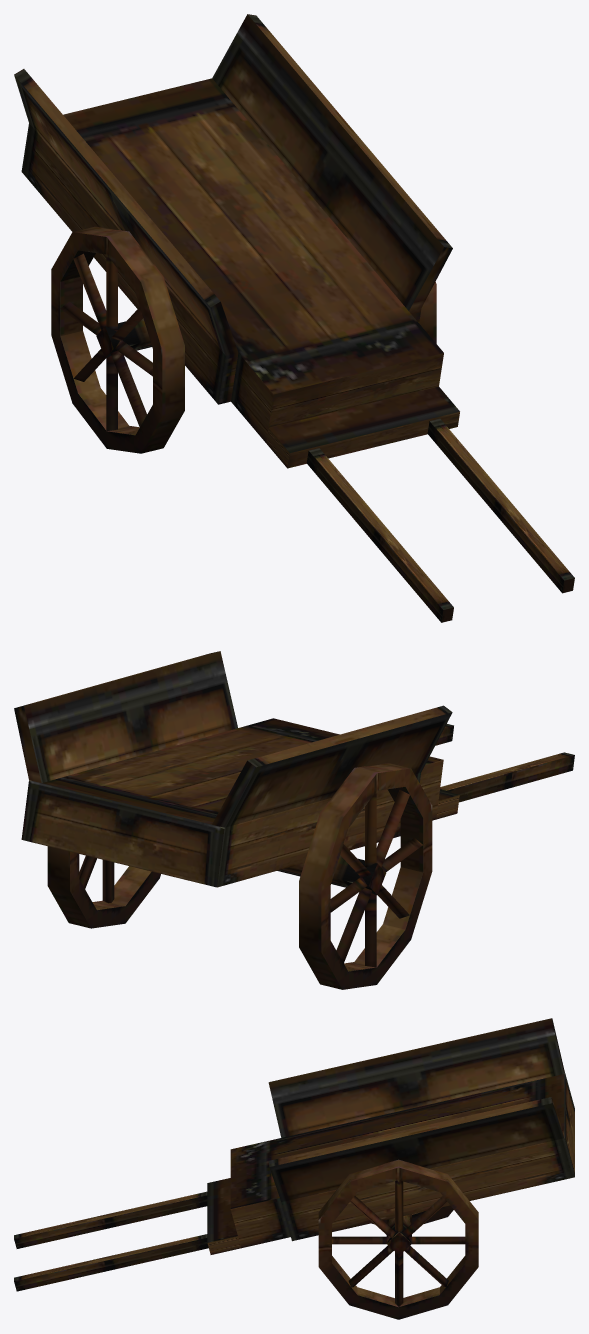
3 renders of one model, top to bottom at view 1: azimuth 30°, elevation 25°; view 2: azimuth 150°, elevation 25°; view 3: azimuth 270°, elevation 25°, orthographic. The views are drawn at different scales.
Parts seen in each view (by area): view 1: Carriage04; view 2: Carriage04; view 3: Carriage04.
Part boxes in pixels (x1=…): Carriage04: x1=14, y1=14, x2=574, y2=622; Carriage04: x1=14, y1=651, x2=574, y2=989; Carriage04: x1=14, y1=1018, x2=574, y2=1319.
Bounding box in the file's own units: 179 × 183 × 437.
